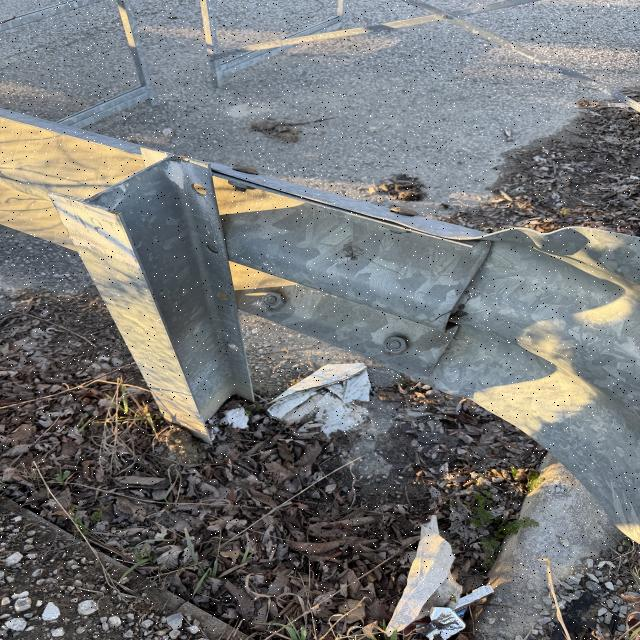Guard rail: (3, 165, 527, 325), (436, 241, 640, 549)
